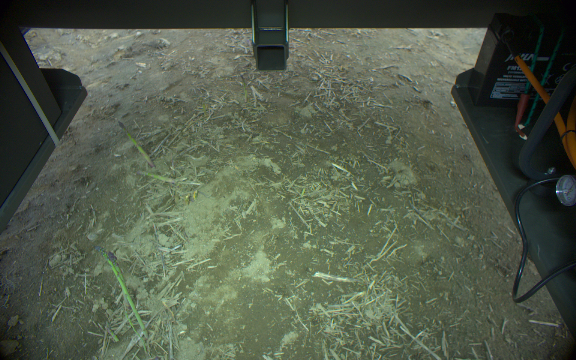aspa: (97, 245, 149, 337), (116, 118, 157, 168), (105, 249, 129, 305), (134, 168, 188, 187), (238, 74, 249, 104)
